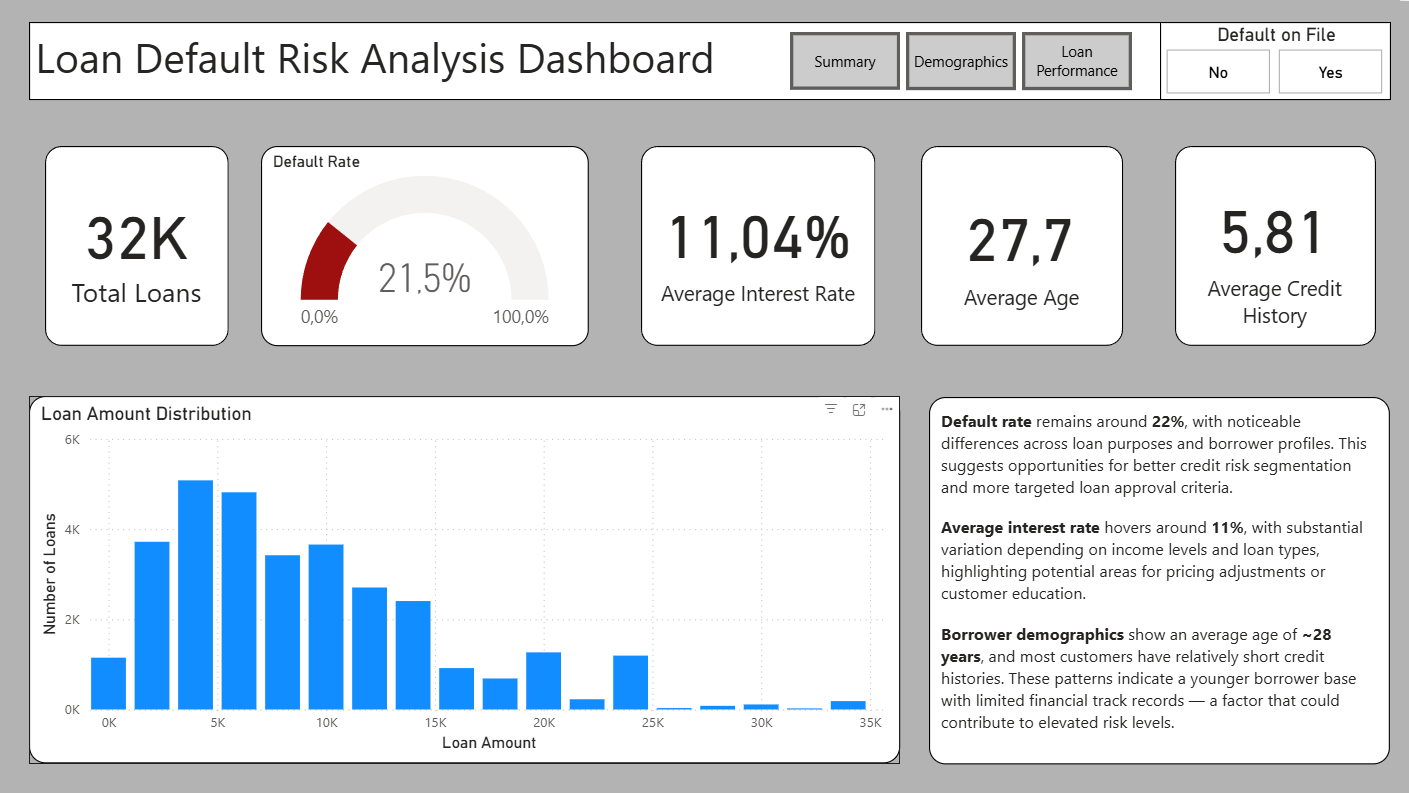

The page's visual inventory and layout, read from the dashboard file:
{"tool":"powerbi","page":{"name":"1","canvas":[1280,720],"ordinal":0},"visuals":[{"type":"textbox","box":[25.8,18.7,1237.3,71.1],"z":0},{"type":"shape","box":[1066.8,131.6,182.7,181.7],"z":1000},{"type":"shape","box":[836,131.6,183.7,181.7],"z":2000},{"type":"shape","box":[40.3,131.6,167,181.7],"z":3000},{"type":"shape","box":[581.6,131.6,213.2,181.7],"z":4000},{"type":"gauge","title":"Default Rate","fields":{"Y":["Table1.Default Rate %"]},"box":[236.7,131.6,297.7,181.7],"z":5000},{"type":"cardVisual","fields":{"Data":["Table1.Average Credit History"]},"box":[1088.4,153.2,139.5,97.3],"z":7000},{"type":"cardVisual","fields":{"Data":["Table1.Total Loans"]},"box":[58.9,159.1,129.7,85.5],"z":8000},{"type":"clusteredColumnChart","title":"Loan Amount Distribution","fields":{"Category":["Table1.loan_amnt (bins)"],"Y":["CountNonNull(Table1.loan_amnt (bins))"]},"box":[25.5,359.5,791.8,334],"z":9000},{"type":"cardVisual","fields":{"Data":["Avg(Table1.person_age)"]},"box":[860,158.2,157.3,108.2],"z":10000},{"type":"cardVisual","fields":{"Data":["Table1.Average Int Rate"]},"box":[585.5,158.2,205.5,86.4],"z":11000},{"type":"textbox","box":[843.6,360,419.1,333.6],"z":12000},{"type":"advancedSlicerVisual","title":"Default on File","fields":{"Values":["Table1.Default on File Label"]},"box":[1053.3,18.7,209.8,71.1],"z":13000},{"type":"actionButton","box":[716.8,28.2,100.2,52.5],"z":14000},{"type":"actionButton","box":[822.9,27.9,100,52.9],"z":15000},{"type":"actionButton","box":[928.6,27.9,100,52.9],"z":16000},{"type":"textbox","box":[58.9,242.6,142.4,53],"z":17000},{"type":"textbox","box":[592.7,247.3,190.9,60],"z":18000},{"type":"textbox","box":[838.2,250.9,179.1,37.3],"z":19000},{"type":"textbox","box":[1077.6,242.6,161.1,64.8],"z":20000}]}

Visuals, with their boxes in screenshot pixels (x1, y1, x2, y2), scaled from the page's 1280x720 canvas onto the 1409x793 screenshot:
textbox: 28,21,1390,99
shape: 1174,145,1375,345
shape: 920,145,1122,345
shape: 44,145,228,345
shape: 640,145,875,345
"Default Rate" gauge: 261,145,588,345
cardVisual - Table1.Average Credit History: 1198,169,1352,276
cardVisual - Table1.Total Loans: 65,175,208,269
"Loan Amount Distribution" clusteredColumnChart: 28,396,900,764
cardVisual - Avg(Table1.person_age): 947,174,1120,293
cardVisual - Table1.Average Int Rate: 645,174,871,269
textbox: 929,397,1390,764
"Default on File" advancedSlicerVisual: 1159,21,1390,99
actionButton: 789,31,899,89
actionButton: 906,31,1016,89
actionButton: 1022,31,1132,89
textbox: 65,267,222,326
textbox: 652,272,863,338
textbox: 923,276,1120,317
textbox: 1186,267,1364,339
